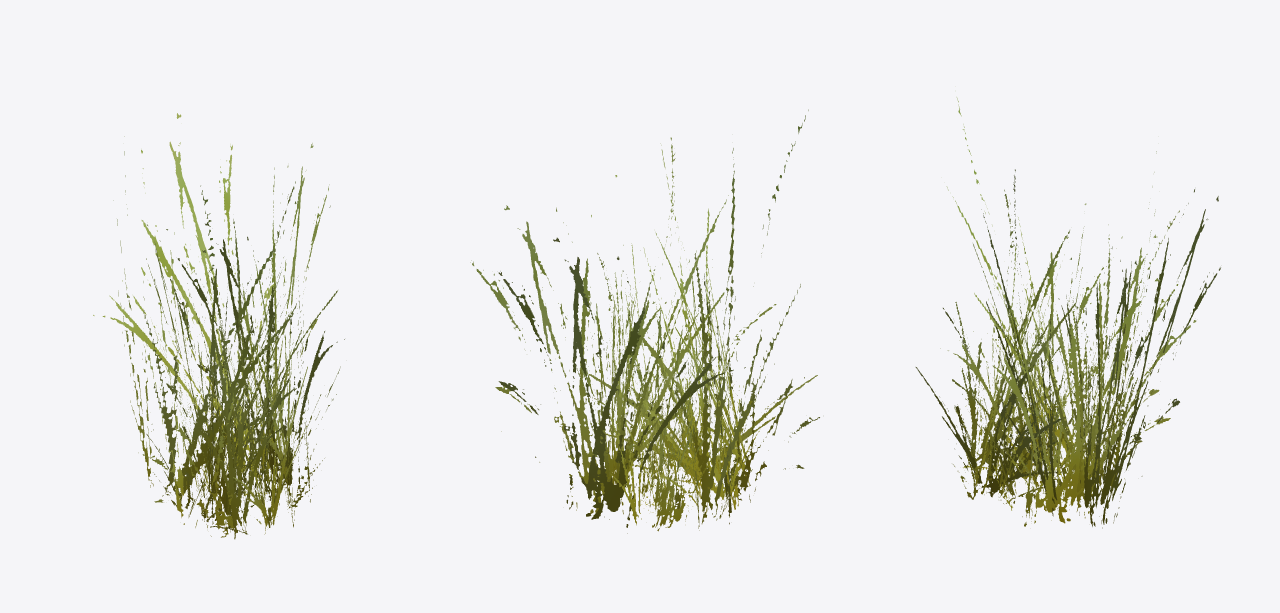
The model's file is grass41.fbx.
3 renders of one model, left to right at view 1: azimuth 30°, elevation 25°; view 2: azimuth 150°, elevation 25°; view 3: azimuth 270°, elevation 25°, orthographic. The views are drawn at different scales.
Visible parts, largest first — view 1: grass8_BAKED; view 2: grass8_BAKED; view 3: grass8_BAKED.
Part boxes in pixels (x1,y1,x2,y2): grass8_BAKED: (93,113,344,539); grass8_BAKED: (470,109,819,533); grass8_BAKED: (915,97,1220,528).
Size of the model in its own units: 81.74 by 85.16 by 110.
